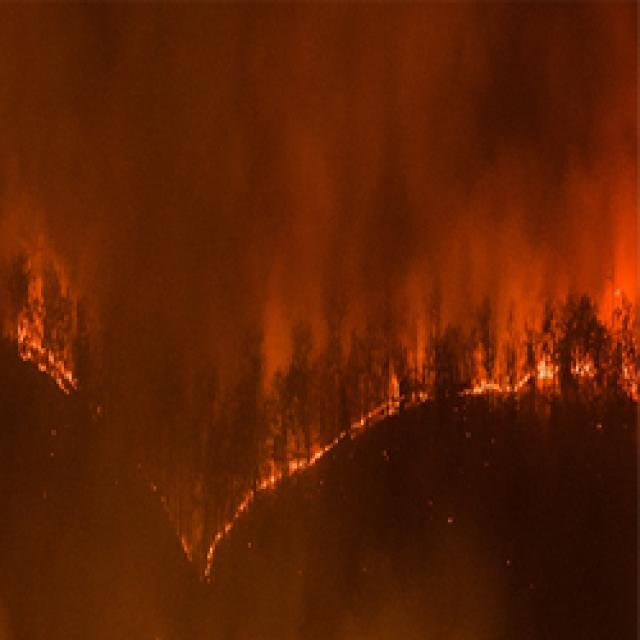Fire: (0, 281, 97, 414), (358, 356, 487, 444), (152, 478, 245, 598), (452, 353, 634, 413), (206, 433, 322, 501), (309, 404, 403, 452)
Smoke: (154, 0, 392, 333), (381, 195, 640, 325), (377, 0, 510, 203), (0, 136, 131, 316), (563, 0, 640, 289)
